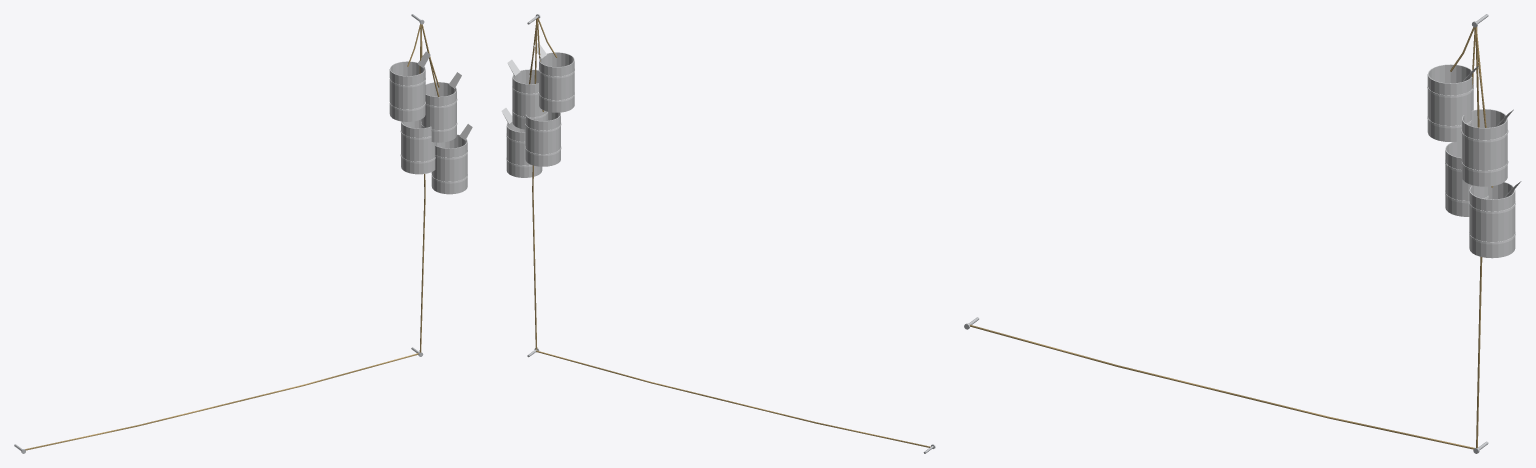
The model's file is alarme_latas.glb.
The picture shows the model from 3 angles, left to right: view 1: azimuth 30°, elevation 25°; view 2: azimuth 150°, elevation 25°; view 3: azimuth 330°, elevation 25°; orthographic projection. The views are drawn at different scales.
Parts seen in each view (by area): view 1: alarme_latas_lata, alarme_latas_corda, alarme_latas_aco_polido; view 2: alarme_latas_lata, alarme_latas_corda, alarme_latas_aco_polido; view 3: alarme_latas_lata, alarme_latas_corda, alarme_latas_aco_polido.
Boxes of the visible parts, x1,y1,x2,y2 form: alarme_latas_lata: (389,51,472,194); alarme_latas_corda: (25,24,439,450); alarme_latas_aco_polido: (389,78,467,183); alarme_latas_lata: (501,43,574,177); alarme_latas_corda: (529,17,930,447); alarme_latas_aco_polido: (506,68,574,167); alarme_latas_lata: (1427,64,1521,258); alarme_latas_corda: (970,27,1492,449); alarme_latas_aco_polido: (1427,85,1515,244).
Bounding box in the file's own units: 1.06 × 0.7846 × 0.1081.
Materials: 4 (1 with a texture image).
